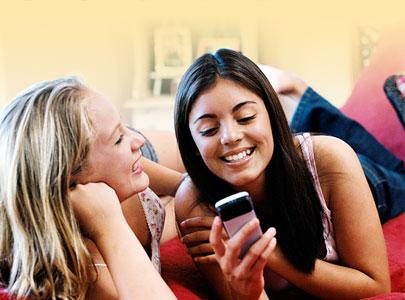person: (173, 49, 394, 300)
